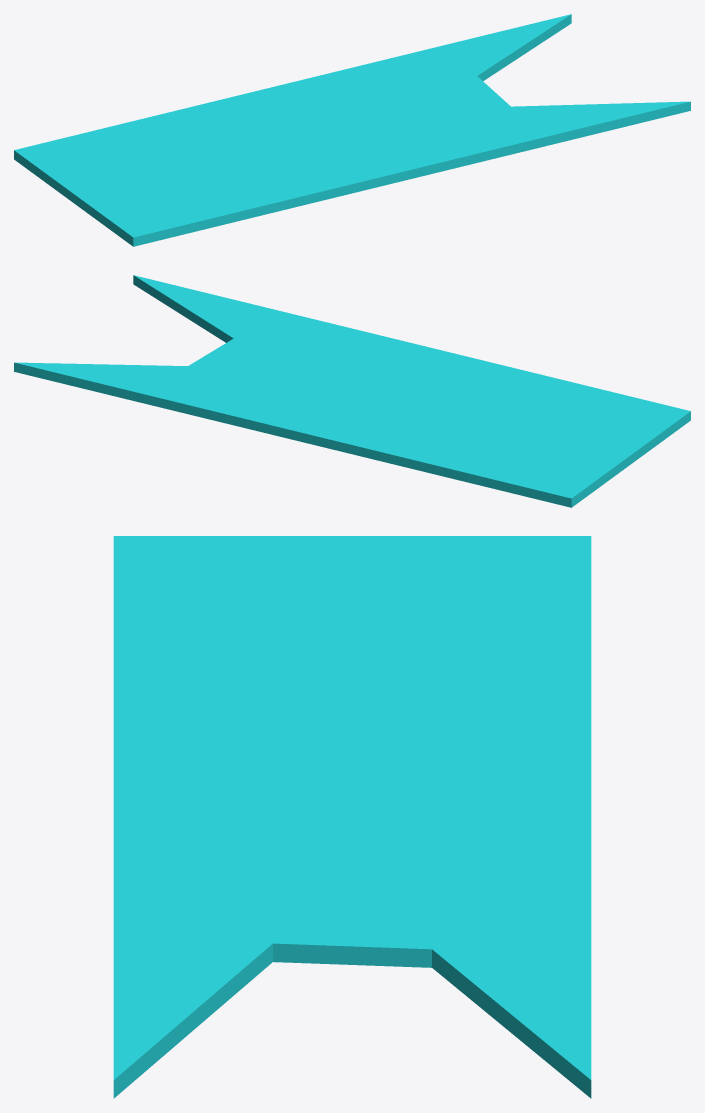
The model's file is BOOKMARKS.fbx.
3 renders of one model, top to bottom at view 1: azimuth 30°, elevation 25°; view 2: azimuth 150°, elevation 25°; view 3: azimuth 270°, elevation 25°, orthographic. The views are drawn at different scales.
Visible parts, largest first — view 1: Cube; view 2: Cube; view 3: Cube.
Boxes of the visible parts, x1,y1,x2,y2 form: Cube: (14, 14, 690, 246); Cube: (14, 275, 690, 507); Cube: (113, 536, 591, 1098).
Bounding box in the file's own units: 539 × 8.57 × 200.
